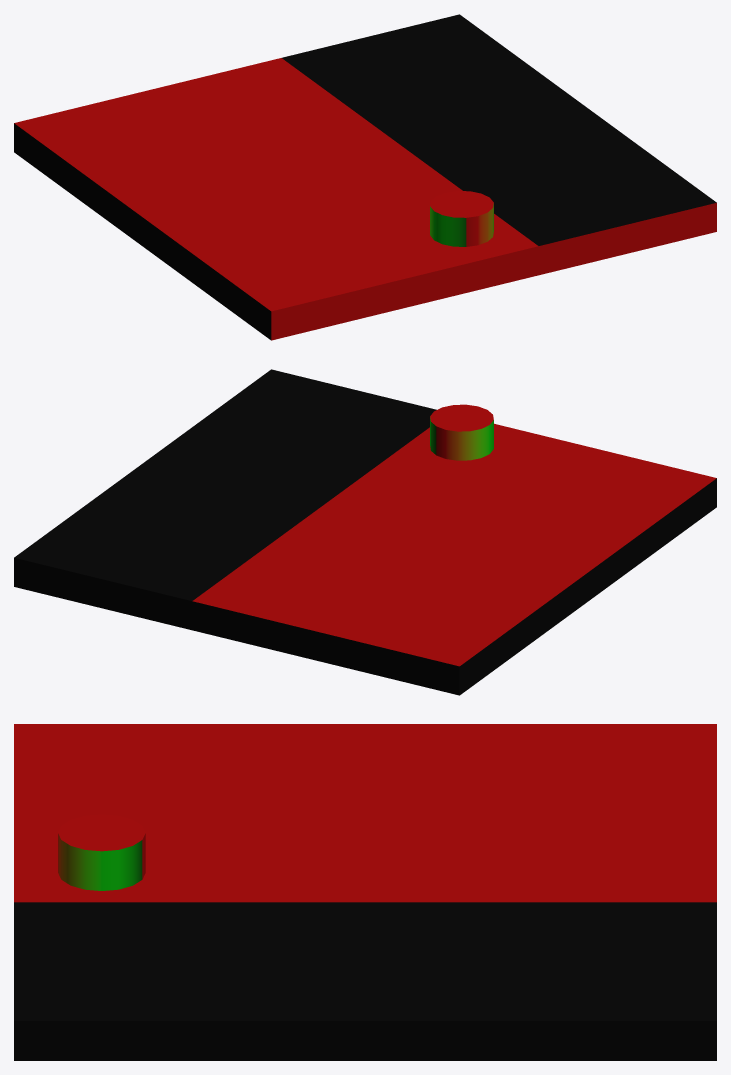
The model's file is hatch.fbx.
3 renders of one model, top to bottom at view 1: azimuth 30°, elevation 25°; view 2: azimuth 150°, elevation 25°; view 3: azimuth 270°, elevation 25°, orthographic. The views are drawn at different scales.
Parts seen in each view (by area): view 1: hammermesh-3; view 2: hammermesh-3; view 3: hammermesh-3.
Boxes of the visible parts, bbox=[...] form: hammermesh-3: bbox=[14, 14, 716, 340]; hammermesh-3: bbox=[14, 369, 716, 695]; hammermesh-3: bbox=[14, 724, 716, 1060].
Bounding box in the file's own units: 64 × 8 × 64.
